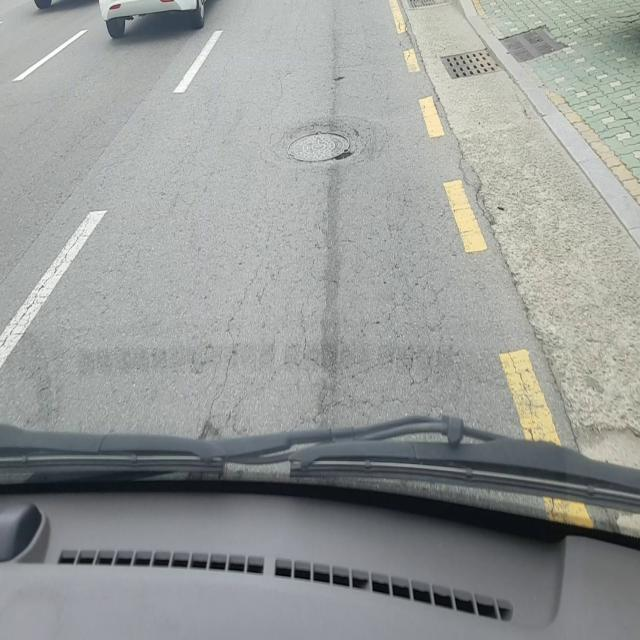Pothole: (285, 128, 354, 165)
